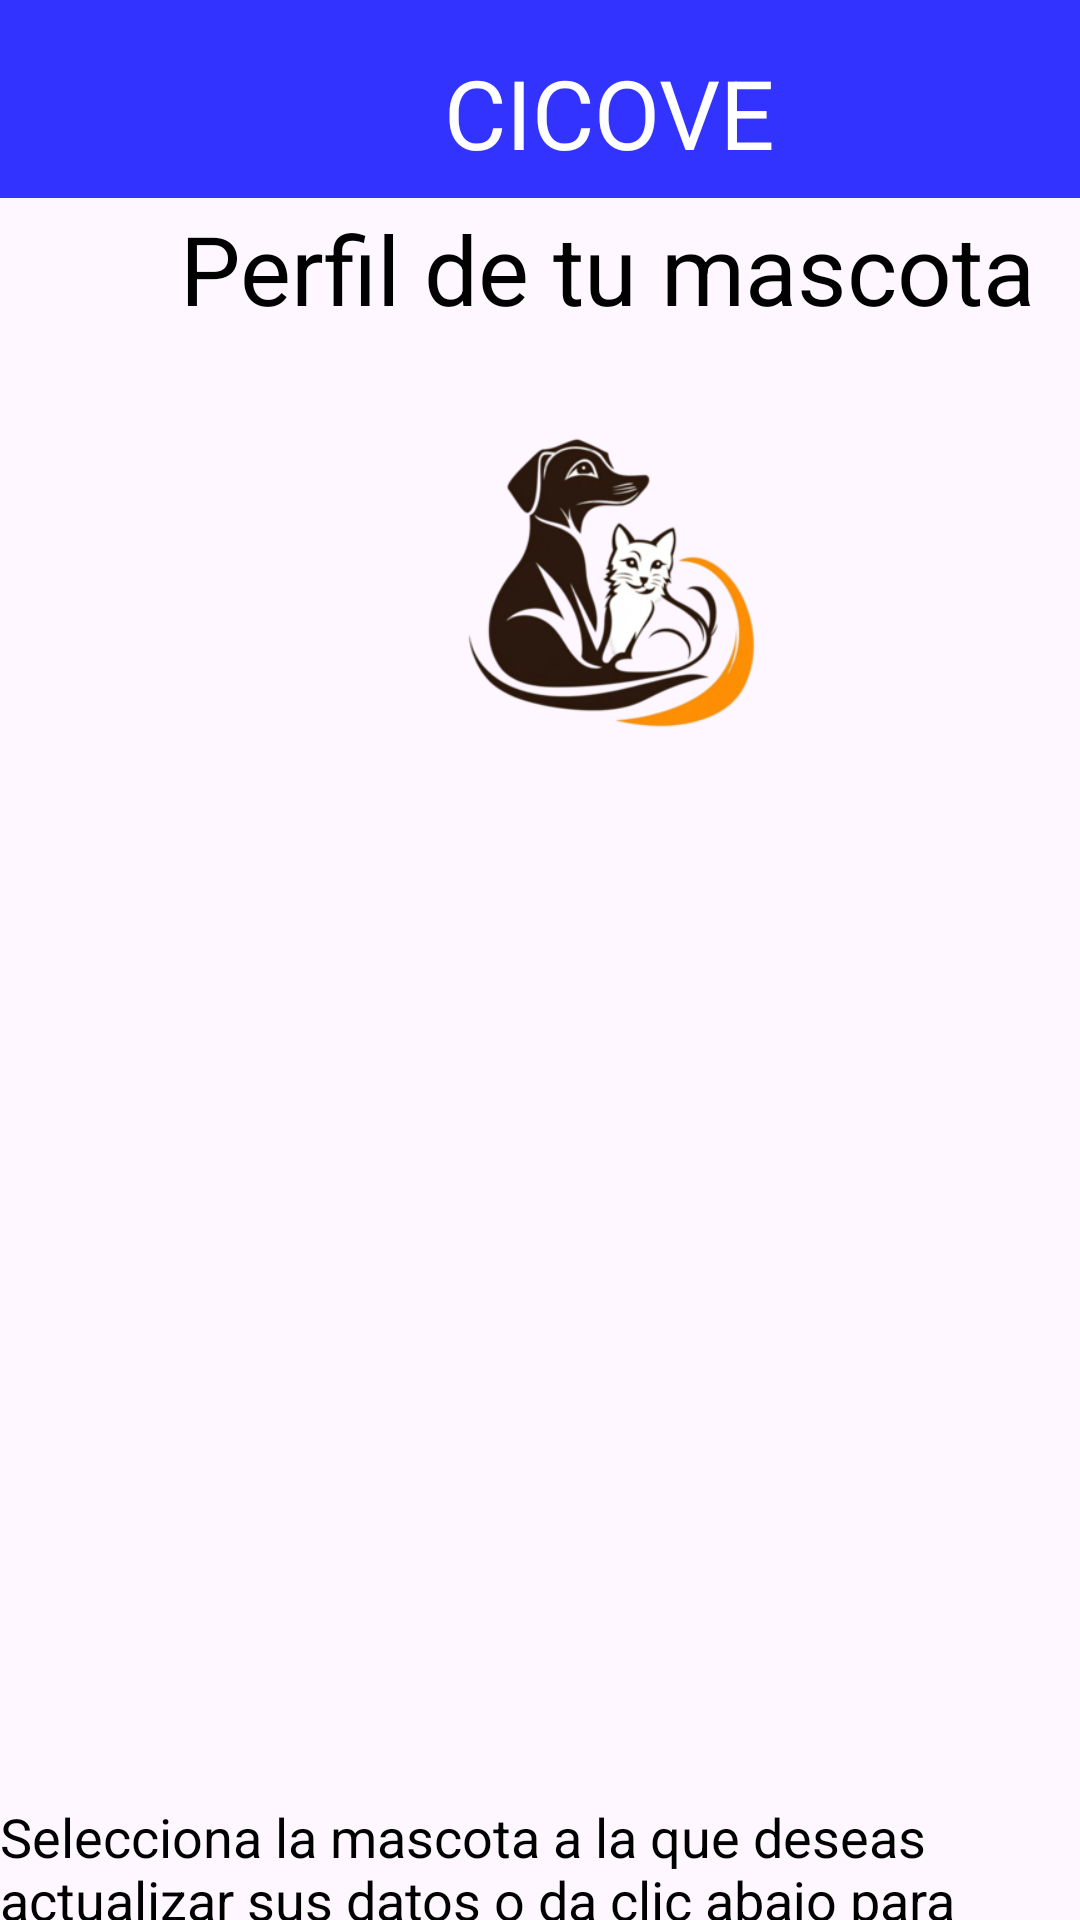

Locate icon controls on the screen. Image size 1080*1920, boxes as bbox(x1, y1, x2, y2).
Menu mascota: bbox(469, 439, 755, 727)
